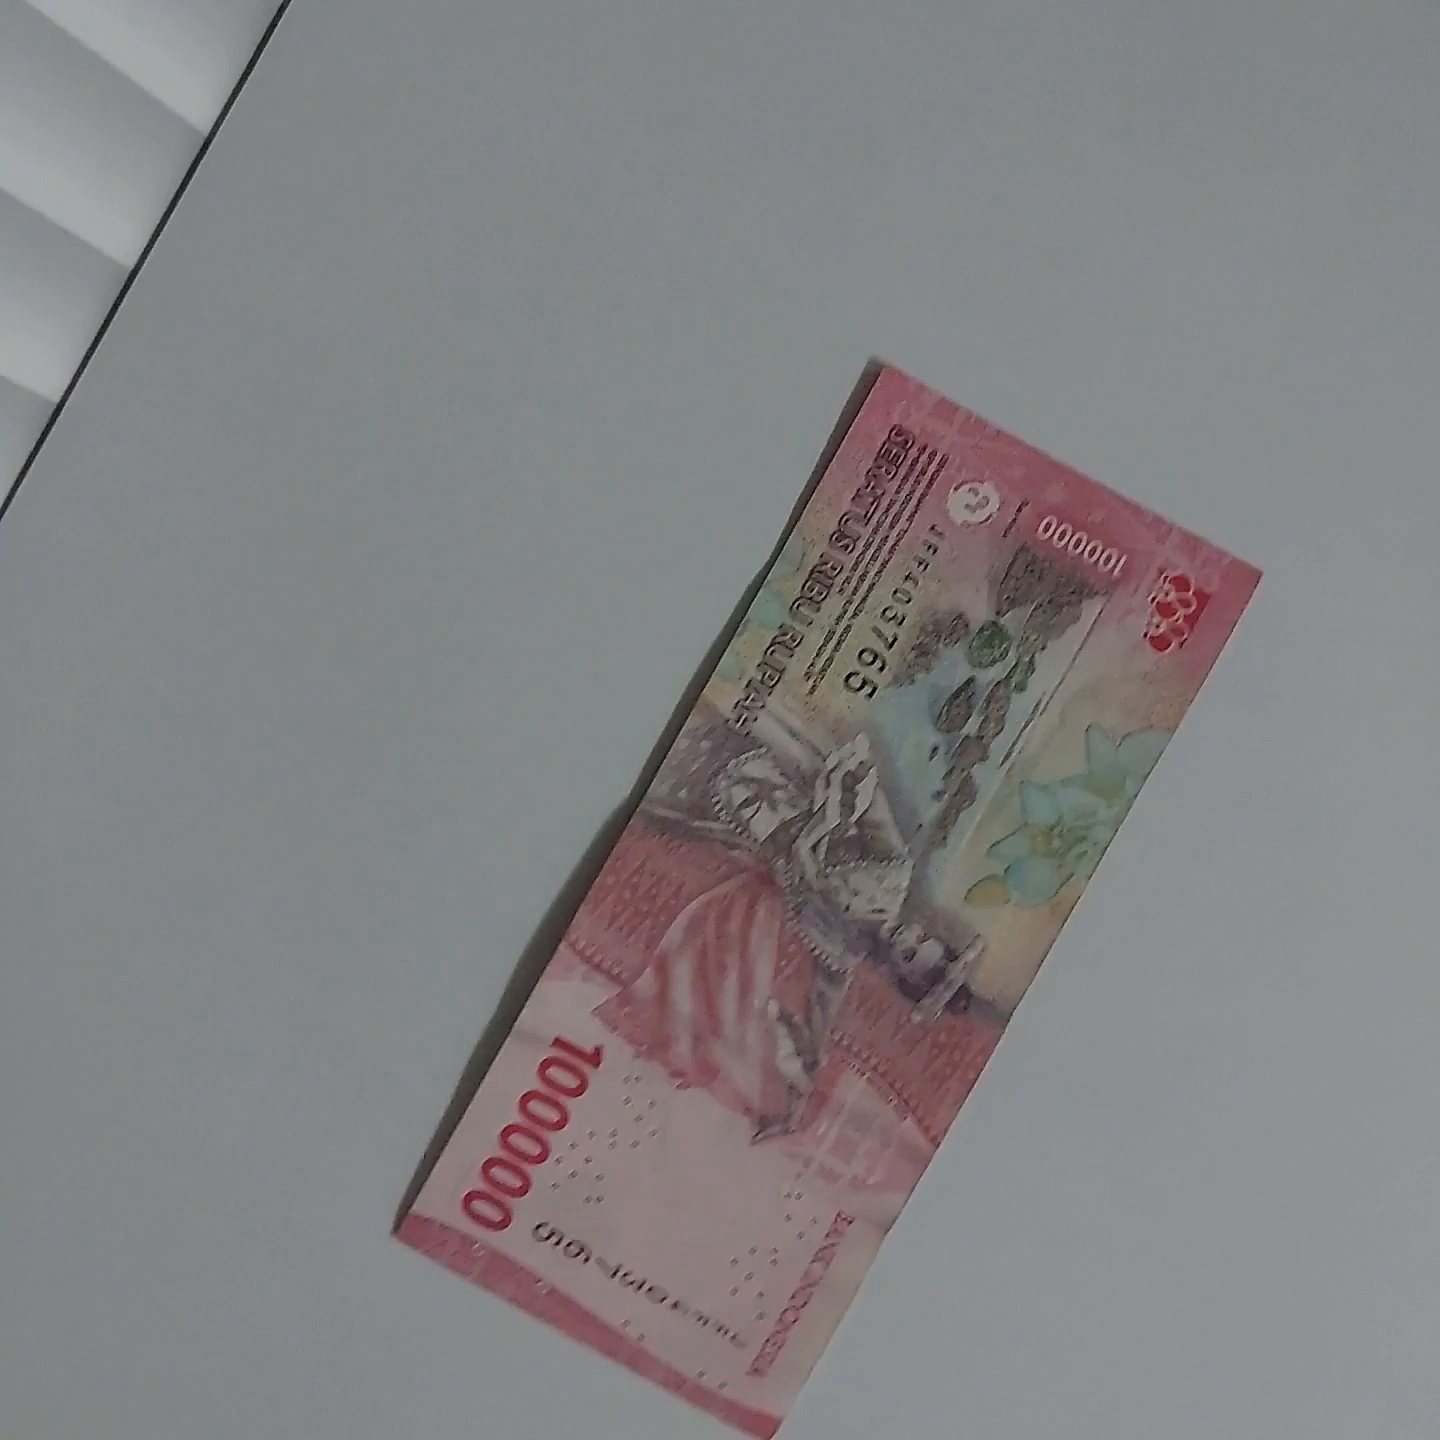100k: (876, 356, 1303, 1358)
